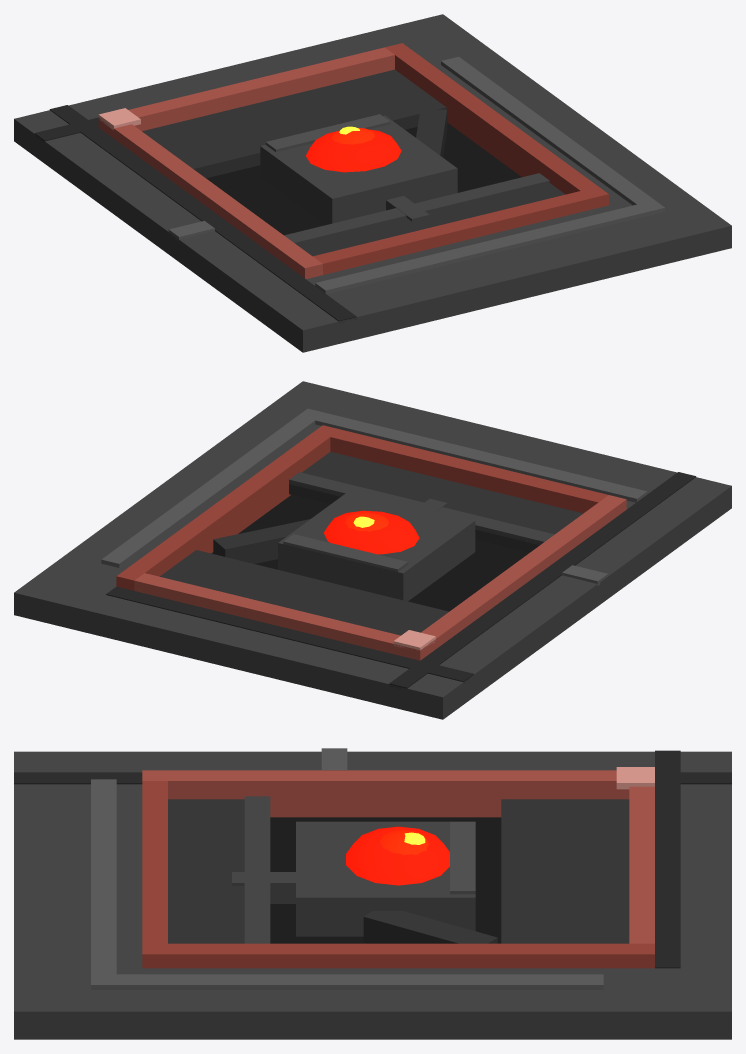
Rendered from newsh3-18-f3.glb.
3 renders of one model, top to bottom at view 1: azimuth 30°, elevation 25°; view 2: azimuth 150°, elevation 25°; view 3: azimuth 270°, elevation 25°, orthographic. The views are drawn at different scales.
Parts seen in each view (by area): view 1: newsh3-18-f3; view 2: newsh3-18-f3; view 3: newsh3-18-f3.
Boxes of the visible parts, box(x1,y1,x2,y2) form: newsh3-18-f3: box(14, 14, 731, 352); newsh3-18-f3: box(14, 381, 731, 719); newsh3-18-f3: box(14, 748, 731, 1039).
Size of the model in its own units: 2 by 0.255 by 2.33.
